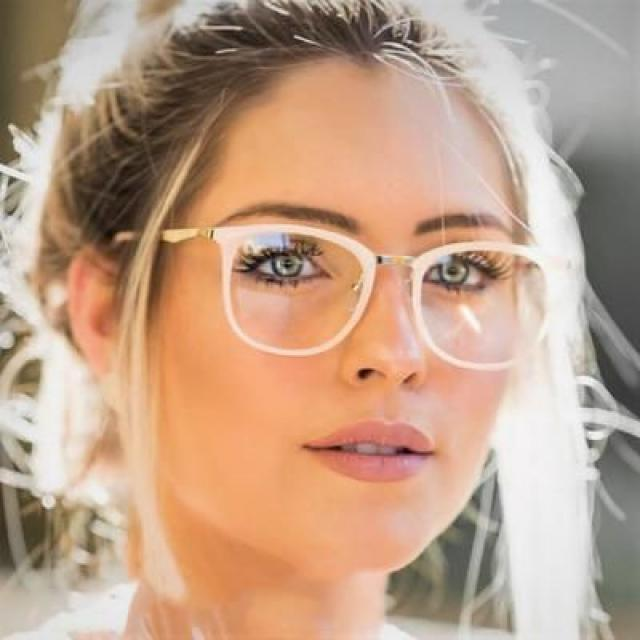Glasses: (156, 217, 566, 376)
